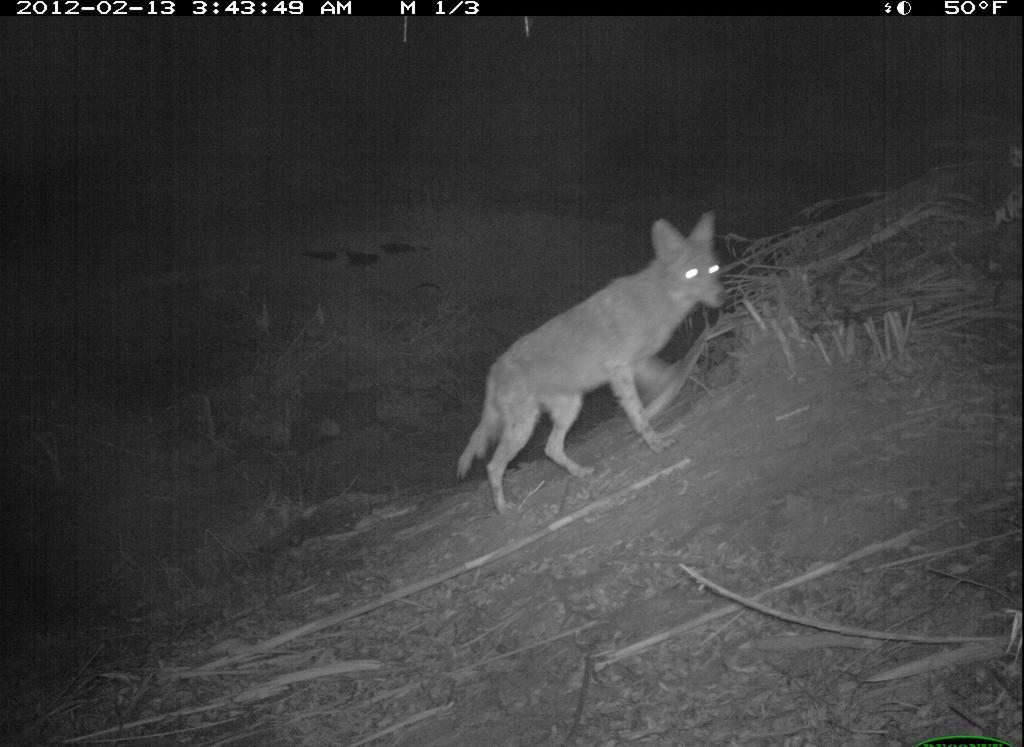coyote: (436, 203, 748, 528)
